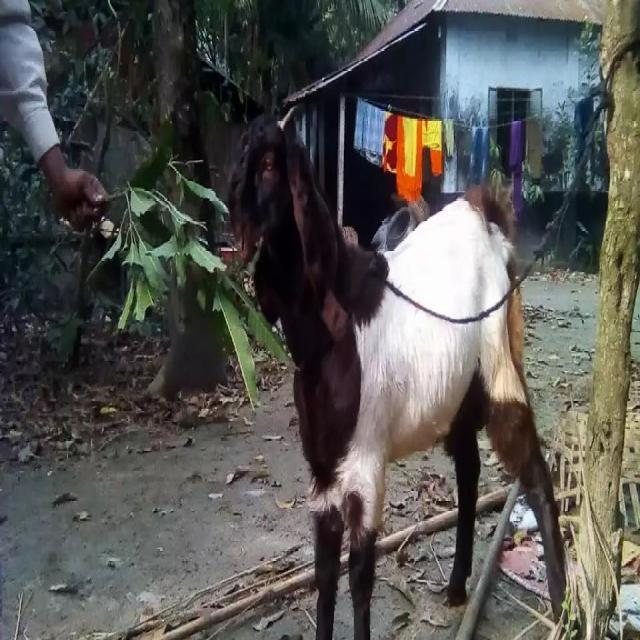Goat: (226, 108, 571, 638)
